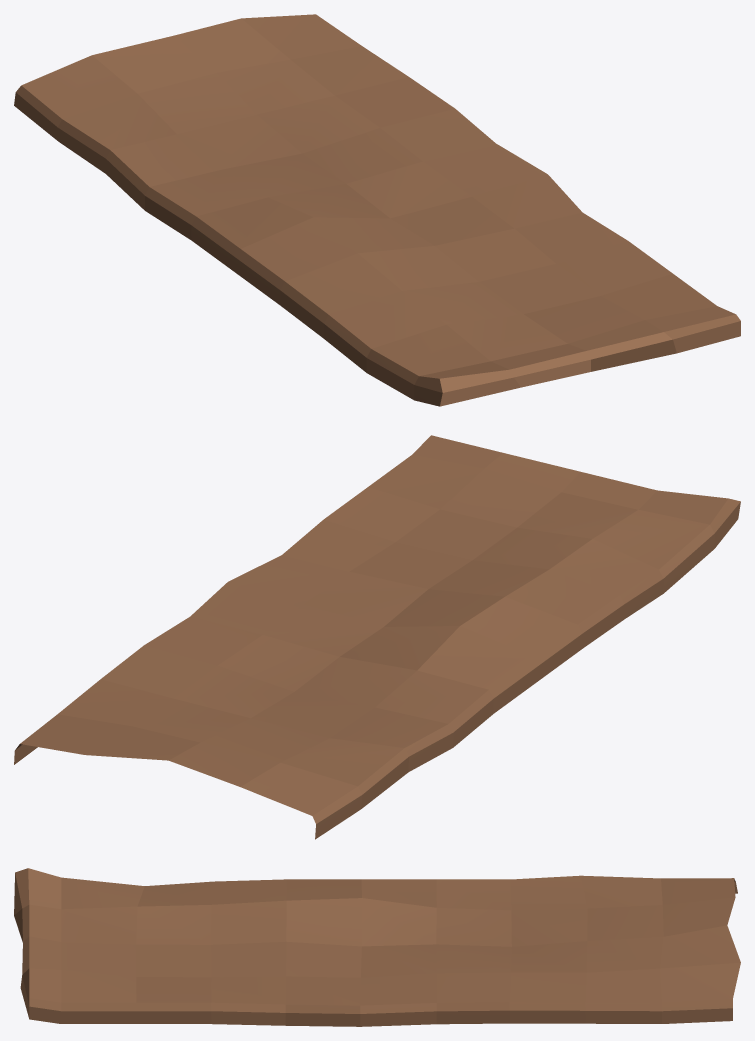
The model's file is RoadTile_8.fbx.
The picture shows the model from 3 angles, top to bottom: view 1: azimuth 30°, elevation 25°; view 2: azimuth 150°, elevation 25°; view 3: azimuth 270°, elevation 25°; orthographic projection. The views are drawn at different scales.
Visible parts, largest first — view 1: RoadTile_8; view 2: RoadTile_8; view 3: RoadTile_8.
Boxes of the visible parts, x1,y1,x2,y2 form: RoadTile_8: (14, 14, 740, 406); RoadTile_8: (14, 435, 740, 839); RoadTile_8: (14, 868, 740, 1026).
Bounding box in the file's own units: 414 × 59.67 × 966.
